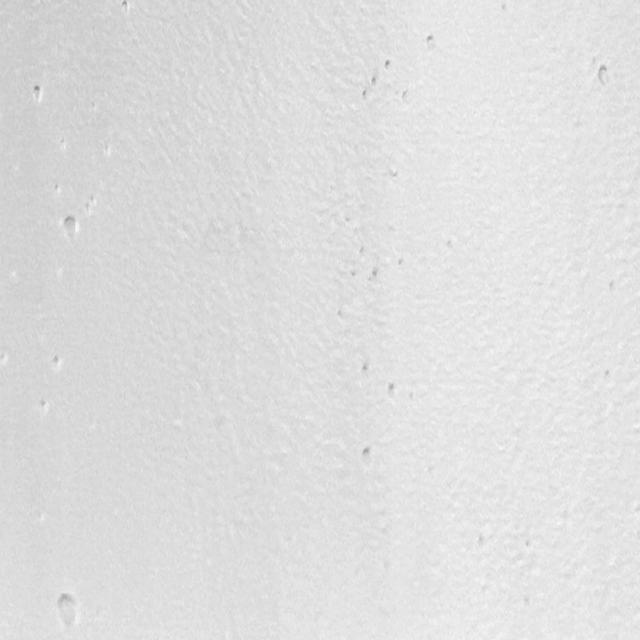pin holes: (53, 590, 84, 634), (59, 215, 81, 243), (594, 62, 616, 89), (384, 381, 403, 404), (30, 83, 46, 105), (423, 34, 439, 52), (361, 444, 376, 462), (360, 361, 375, 378), (50, 355, 64, 371), (120, 0, 134, 16), (499, 1, 513, 17), (85, 195, 98, 212), (390, 166, 404, 181), (369, 266, 382, 282), (40, 399, 52, 415), (360, 88, 372, 104), (369, 74, 381, 90), (402, 87, 412, 106), (396, 256, 409, 270), (604, 366, 613, 386), (382, 58, 394, 72), (476, 532, 484, 552), (348, 268, 360, 281), (52, 184, 63, 198), (0, 350, 8, 366)
